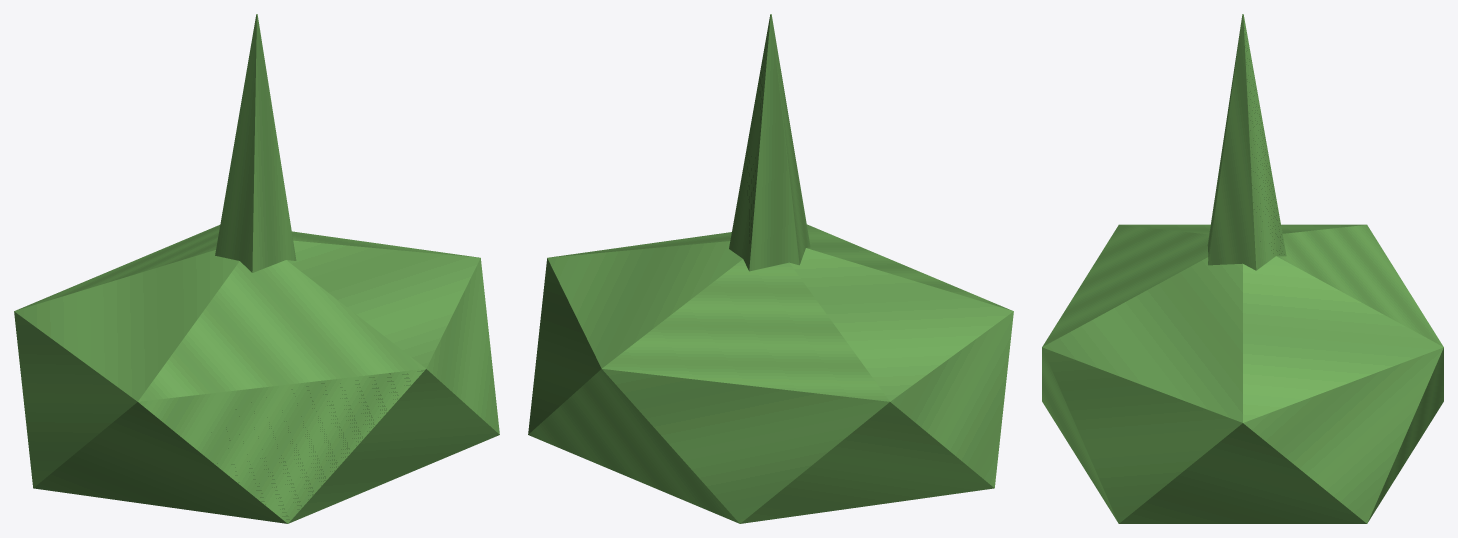
Rendered from last_stand.glb.
The picture shows the model from 3 angles, left to right: view 1: azimuth 30°, elevation 25°; view 2: azimuth 150°, elevation 25°; view 3: azimuth 270°, elevation 25°; orthographic projection.
Visible parts, largest first — view 1: gear_last_stand; view 2: gear_last_stand; view 3: gear_last_stand.
Boxes of the visible parts, left/top/right/bottom form: gear_last_stand: left=14, top=14, right=499, bottom=523; gear_last_stand: left=528, top=14, right=1013, bottom=523; gear_last_stand: left=1042, top=14, right=1443, bottom=523.
Bounding box in the file's own units: 0.483 × 0.51 × 0.3743.
Materials: 1 (1 with a texture image).
